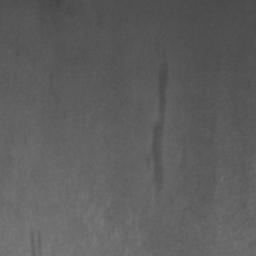Inclusion: (152, 69, 169, 188)
